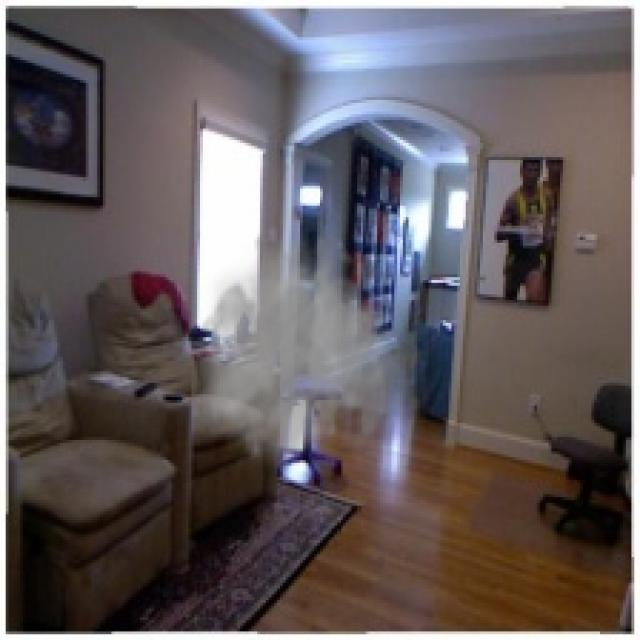smoke: (192, 226, 408, 474)
